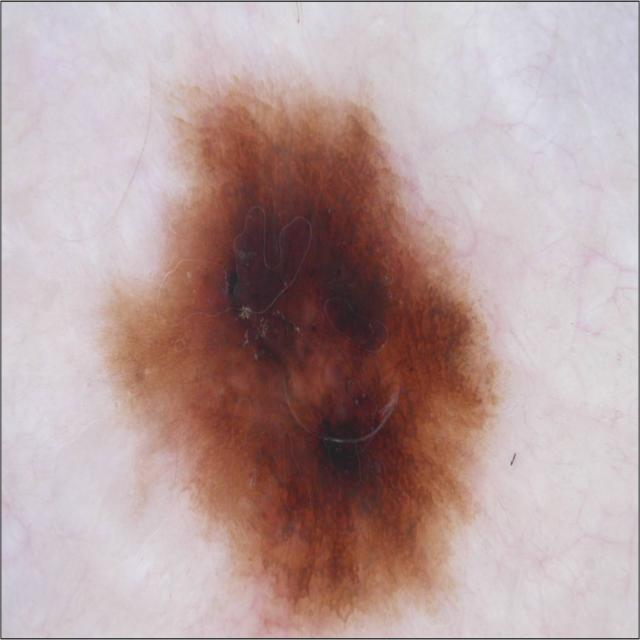Benign: (90, 75, 511, 629)
